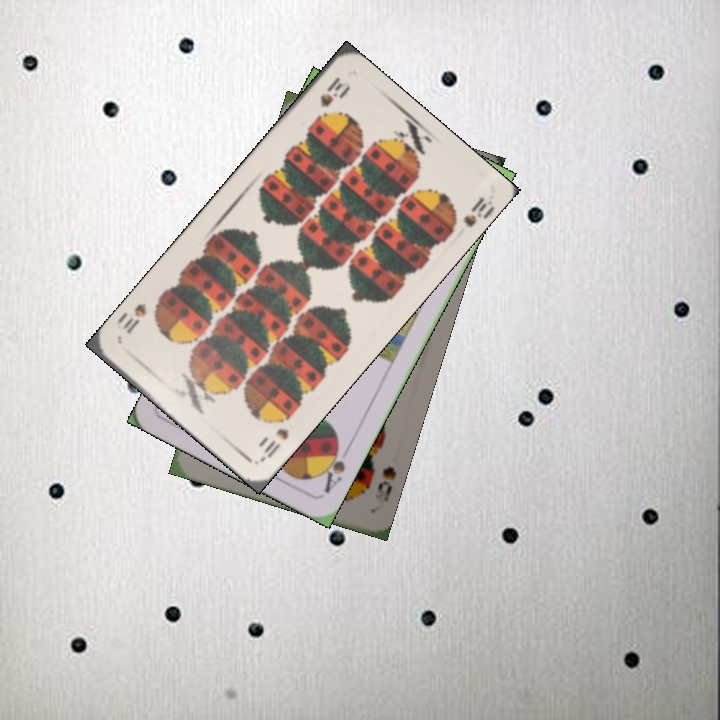S10: (257, 410, 295, 463), (316, 73, 353, 111)
S8: (370, 462, 399, 511)
SA: (316, 437, 348, 496)
